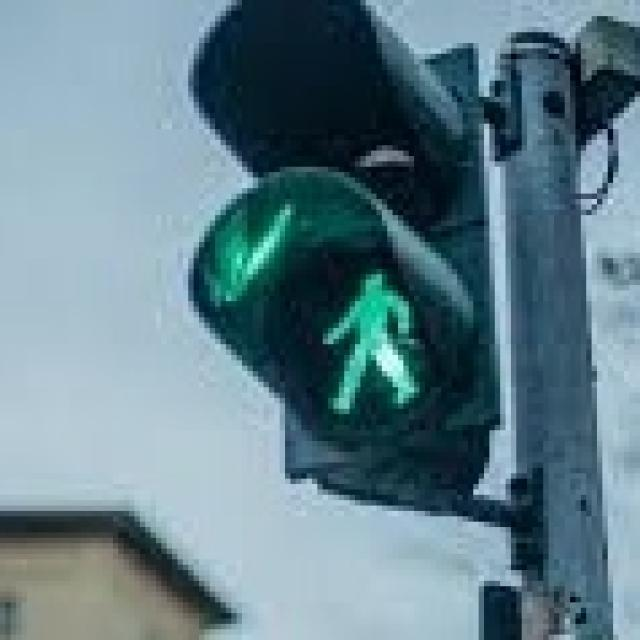geen-crossing: (301, 247, 425, 425)
